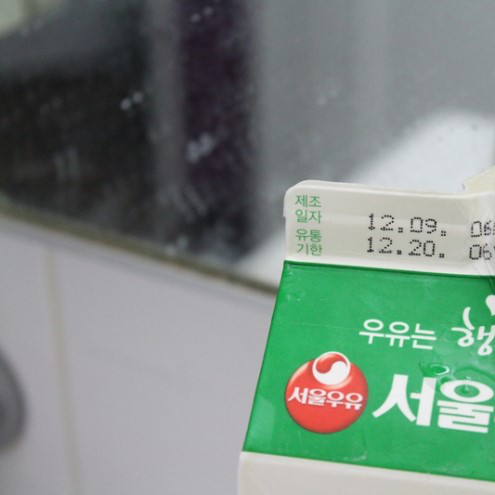milk: (235, 180, 495, 491)
